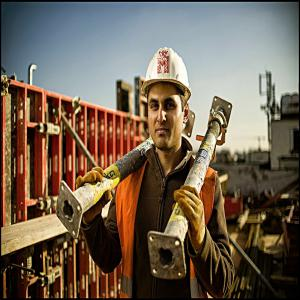white: (143, 47, 191, 151)
